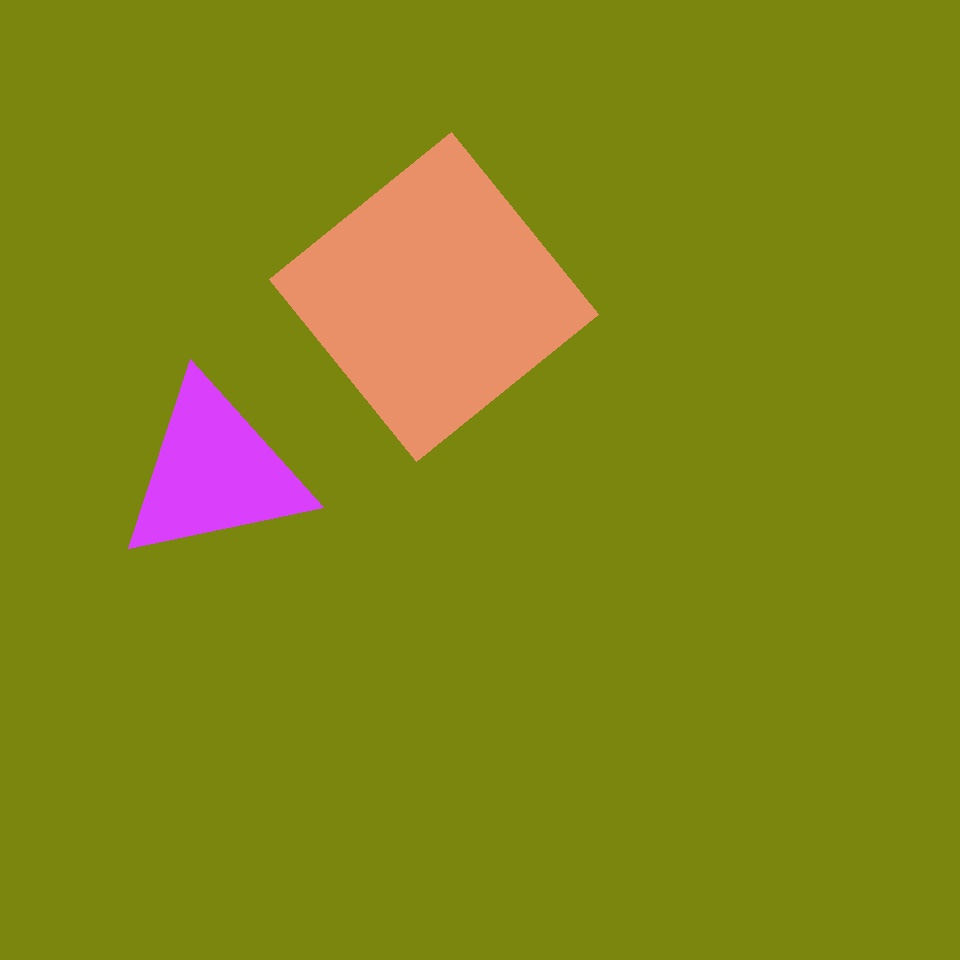circle: (117, 377, 312, 566), (111, 377, 204, 464)
square: (270, 132, 598, 462)
triangle: (241, 185, 600, 544), (587, 421, 915, 750)
